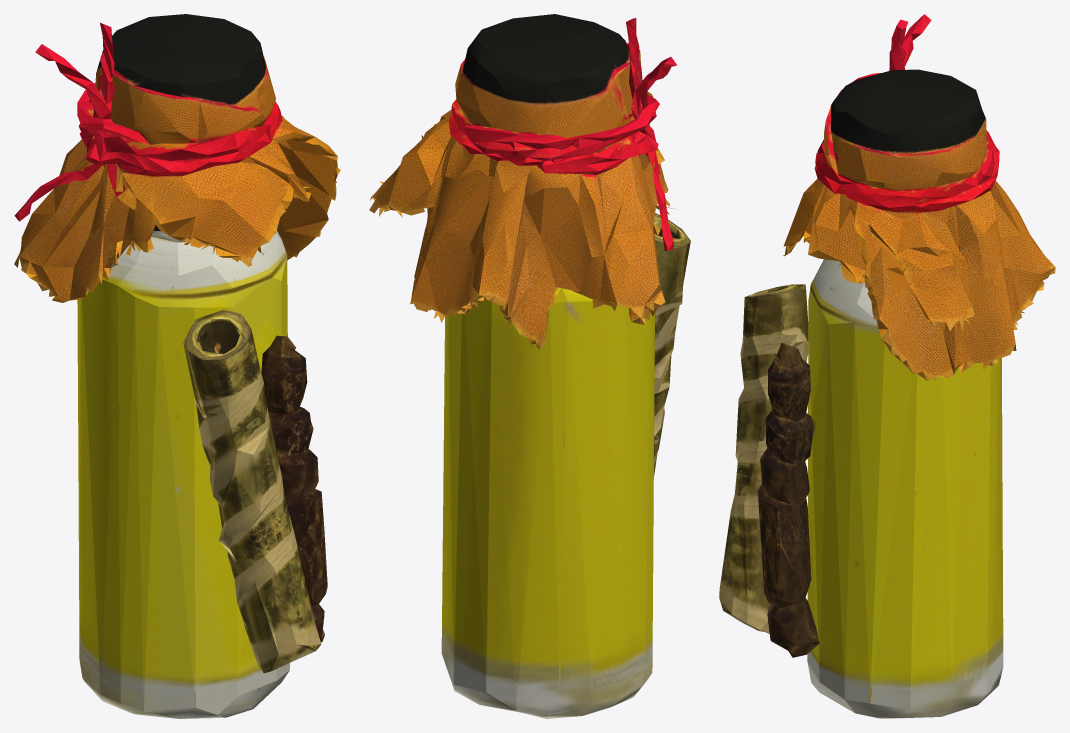
The model's file is remeshed-phraioil.glb.
3 renders of one model, left to right at view 1: azimuth 30°, elevation 25°; view 2: azimuth 150°, elevation 25°; view 3: azimuth 270°, elevation 25°, orthographic. The views are drawn at different scales.
Parts seen in each view (by area): view 1: output_unwrapped; view 2: output_unwrapped; view 3: output_unwrapped.
Part boxes in pixels (box(x1,y1,x2,y2)): output_unwrapped: box(14, 14, 340, 718); output_unwrapped: box(369, 14, 690, 718); output_unwrapped: box(719, 14, 1055, 718).
Size of the model in its own units: 0.8799 by 1.9 by 0.9208.
Materials: 1 (1 with a texture image).
